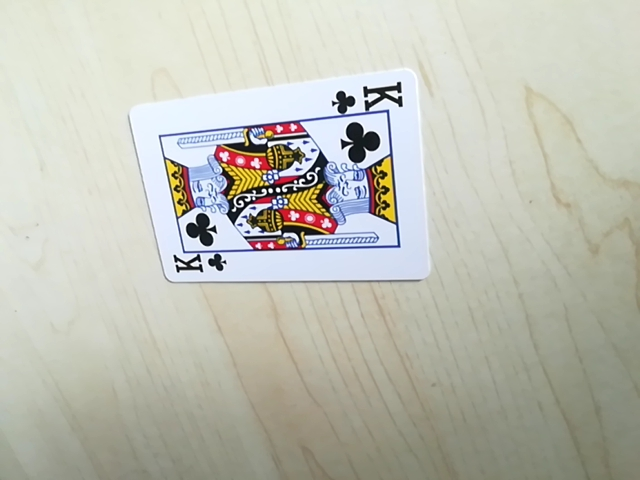mh k: (331, 78, 408, 117), (165, 250, 225, 281)
